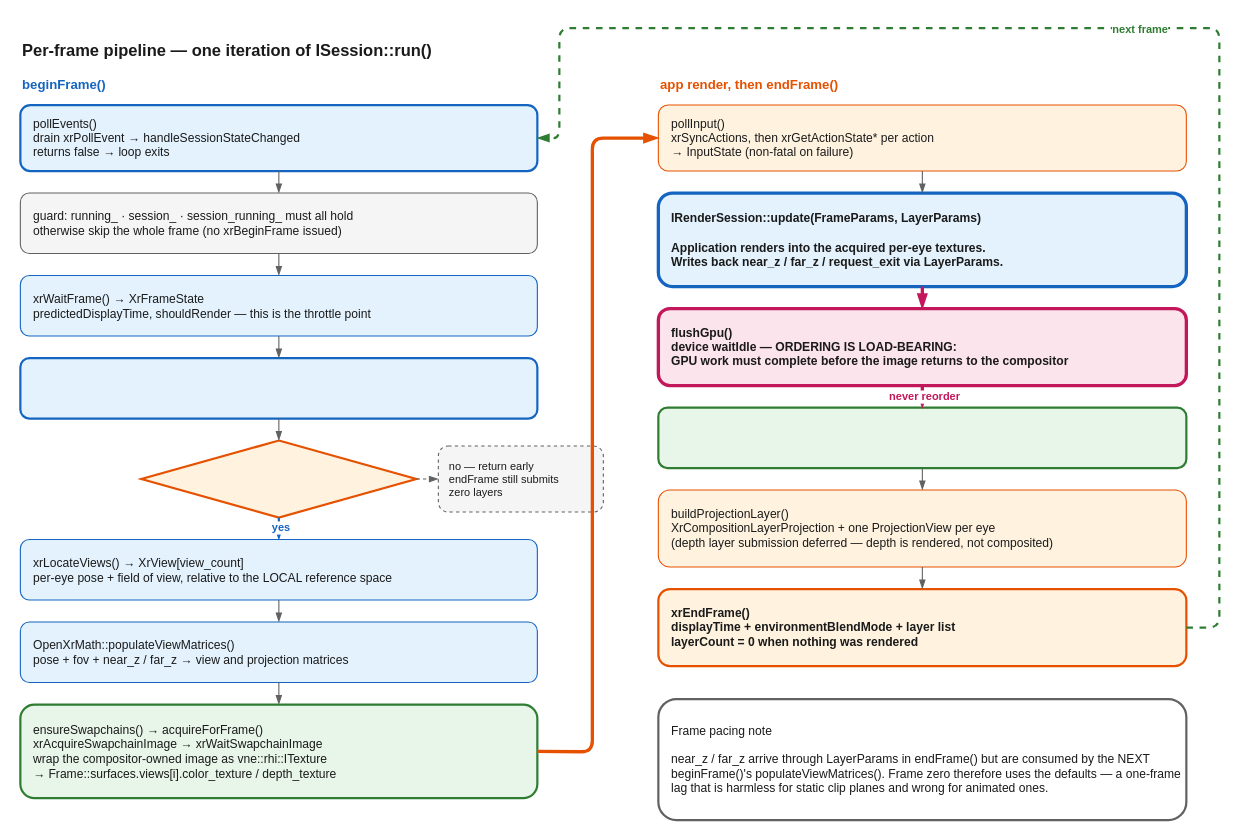
The diagram is 1247 pixels wide and 839 high, and some of its shapes have lost their labels. Here are the shapes that lost their labels. From the top down, the box of each, then its label:
(19, 356, 538, 419): xrBeginFrame() from here a matching xrEndFrame is owed to the runtime
(657, 406, 1187, 469): releaseForFrame() xrReleaseSwapchainImage per eye, colour and depth
(140, 439, 417, 518): shouldRender?
